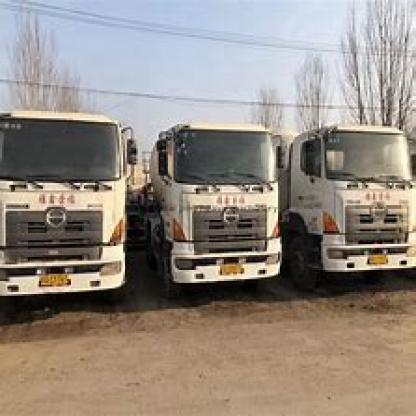dump_truck: (146, 109, 289, 313), (8, 106, 132, 312), (297, 111, 414, 305)
